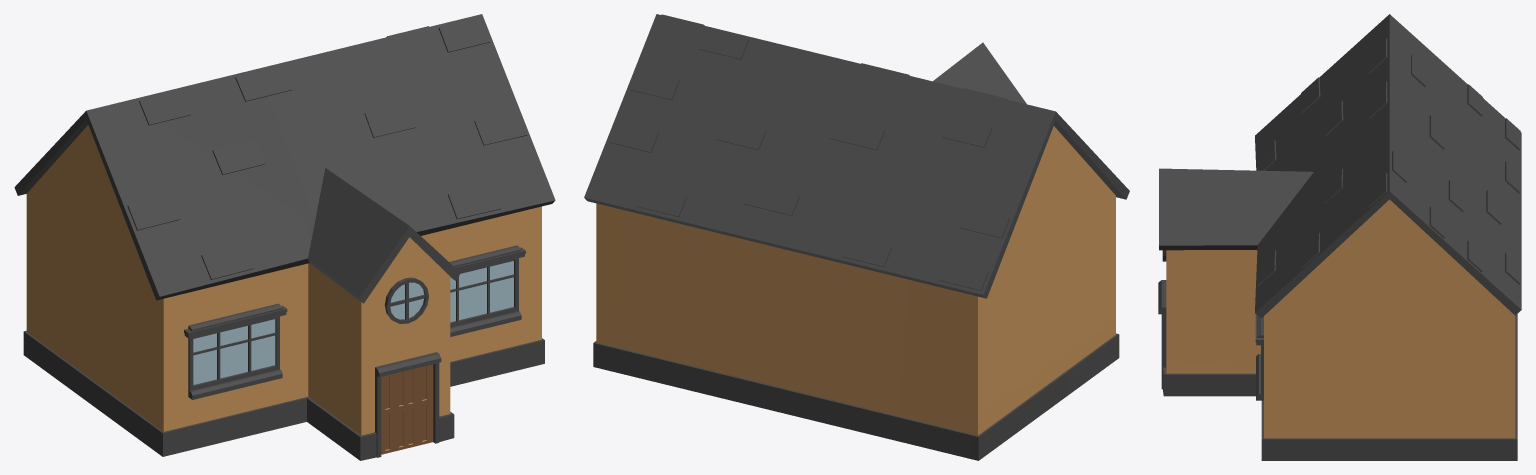
The model's file is Env_ResidentBuilding_04.fbx.
The picture shows the model from 3 angles, left to right: view 1: azimuth 30°, elevation 25°; view 2: azimuth 150°, elevation 25°; view 3: azimuth 270°, elevation 25°; orthographic projection. The views are drawn at different scales.
Visible parts, largest first — view 1: Env_ResidentBuilding_04; view 2: Env_ResidentBuilding_04; view 3: Env_ResidentBuilding_04.
Boxes of the visible parts, bbox=[...] form: Env_ResidentBuilding_04: bbox=[14, 14, 555, 460]; Env_ResidentBuilding_04: bbox=[584, 14, 1129, 460]; Env_ResidentBuilding_04: bbox=[1158, 14, 1521, 460].
Size of the model in its own units: 1087 by 780 by 941.
1 material, 1 textured.
